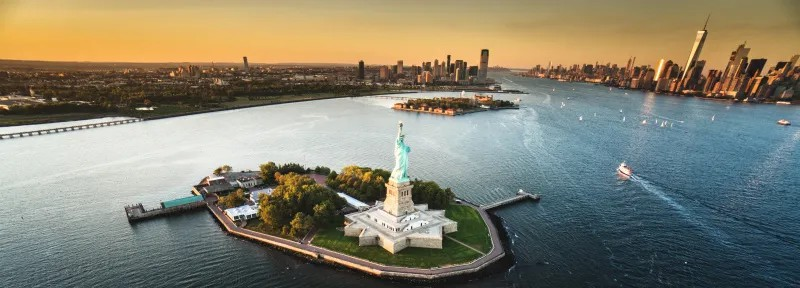SL: (382, 121, 415, 218)
